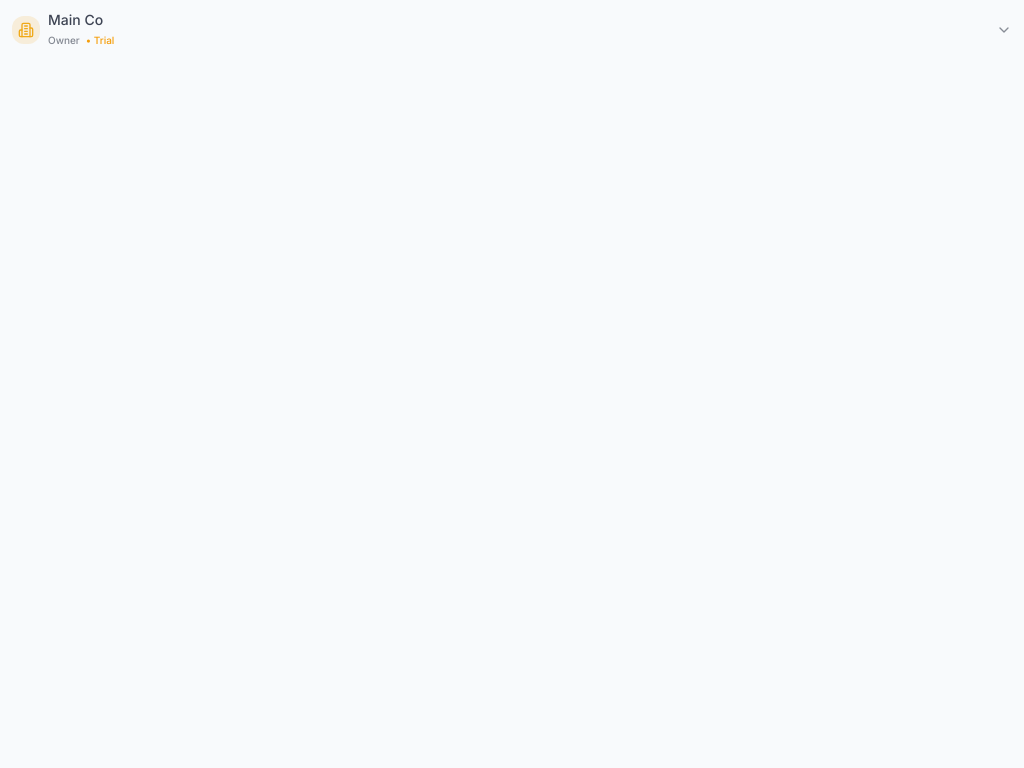
WorkspaceSwitcher › shows the cannot-create message when the permission check fails
This screenshot has width=1024, height=768.
Step 1. Press the mouse on the button "Main Co owner • Trial" → (76, 20), box top-left (0, 0), bottom-right (1023, 60)
Step 2. Click the button "Main Co owner • Trial" → (76, 20), box top-left (0, 0), bottom-right (1023, 60)
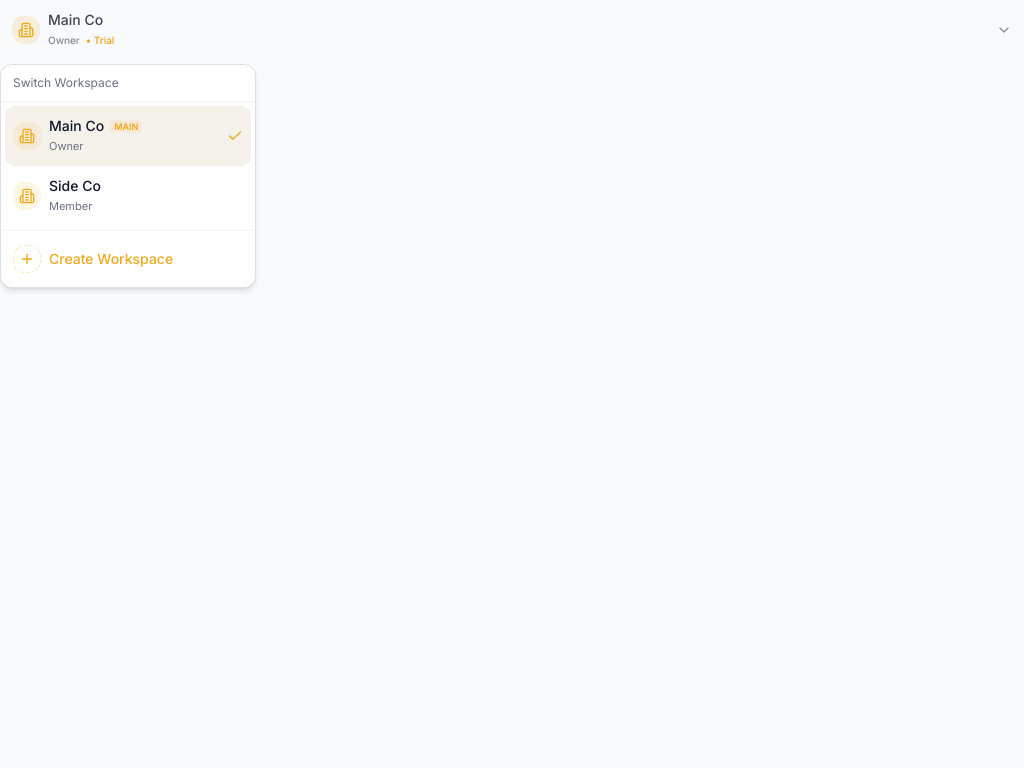
Step 3. Click the menu item "Create Workspace" → (93, 259), box top-left (13, 245), bottom-right (173, 273)
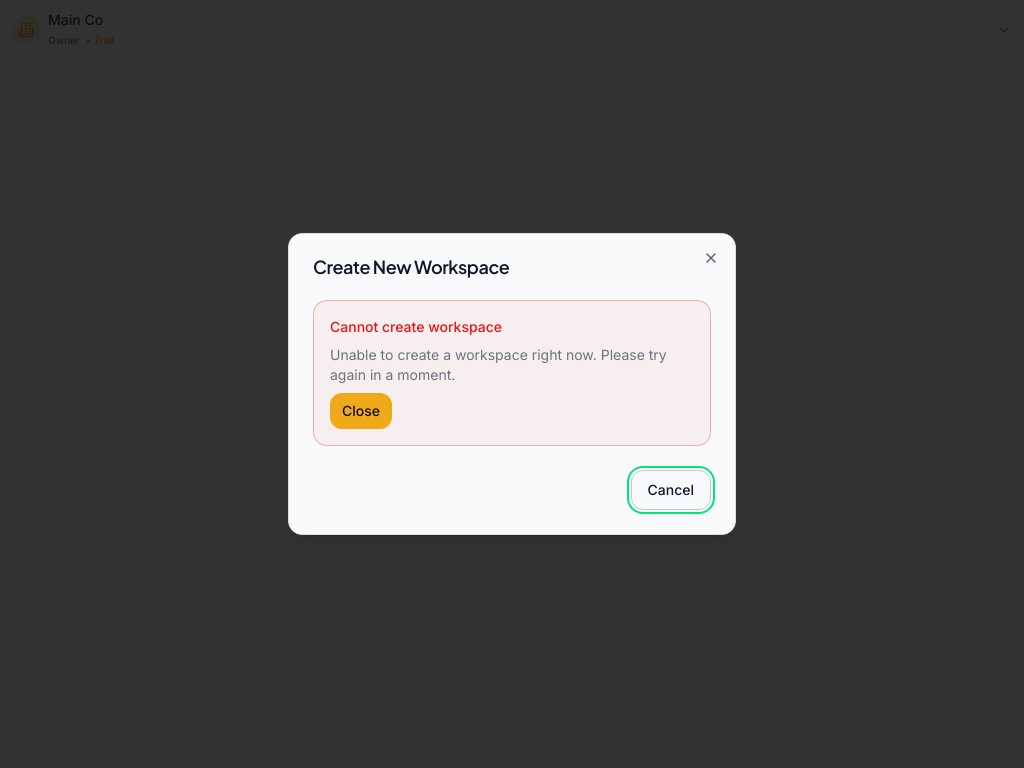
Result: the text "Cannot create workspace" is shown at top-left (330, 318), bottom-right (502, 335)
